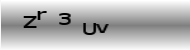3: (57, 11, 72, 26)
U: (81, 21, 97, 35)
Z: (23, 15, 38, 29)
r: (36, 10, 48, 21)
v: (96, 22, 110, 35)
